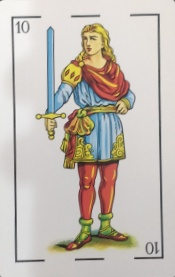10e: (9, 12, 161, 35)
